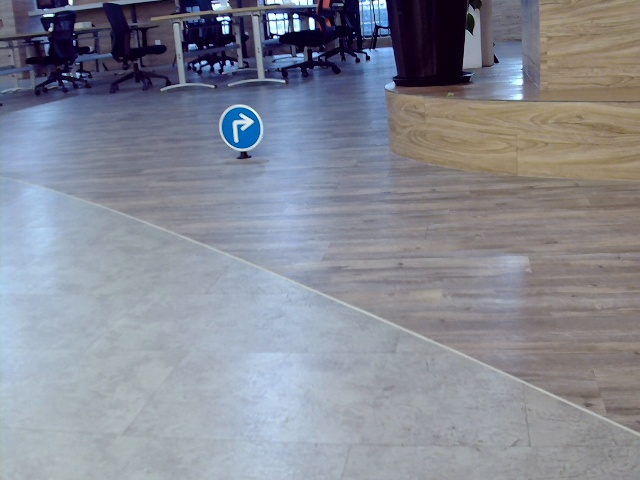turn_right: (229, 113, 252, 140)
